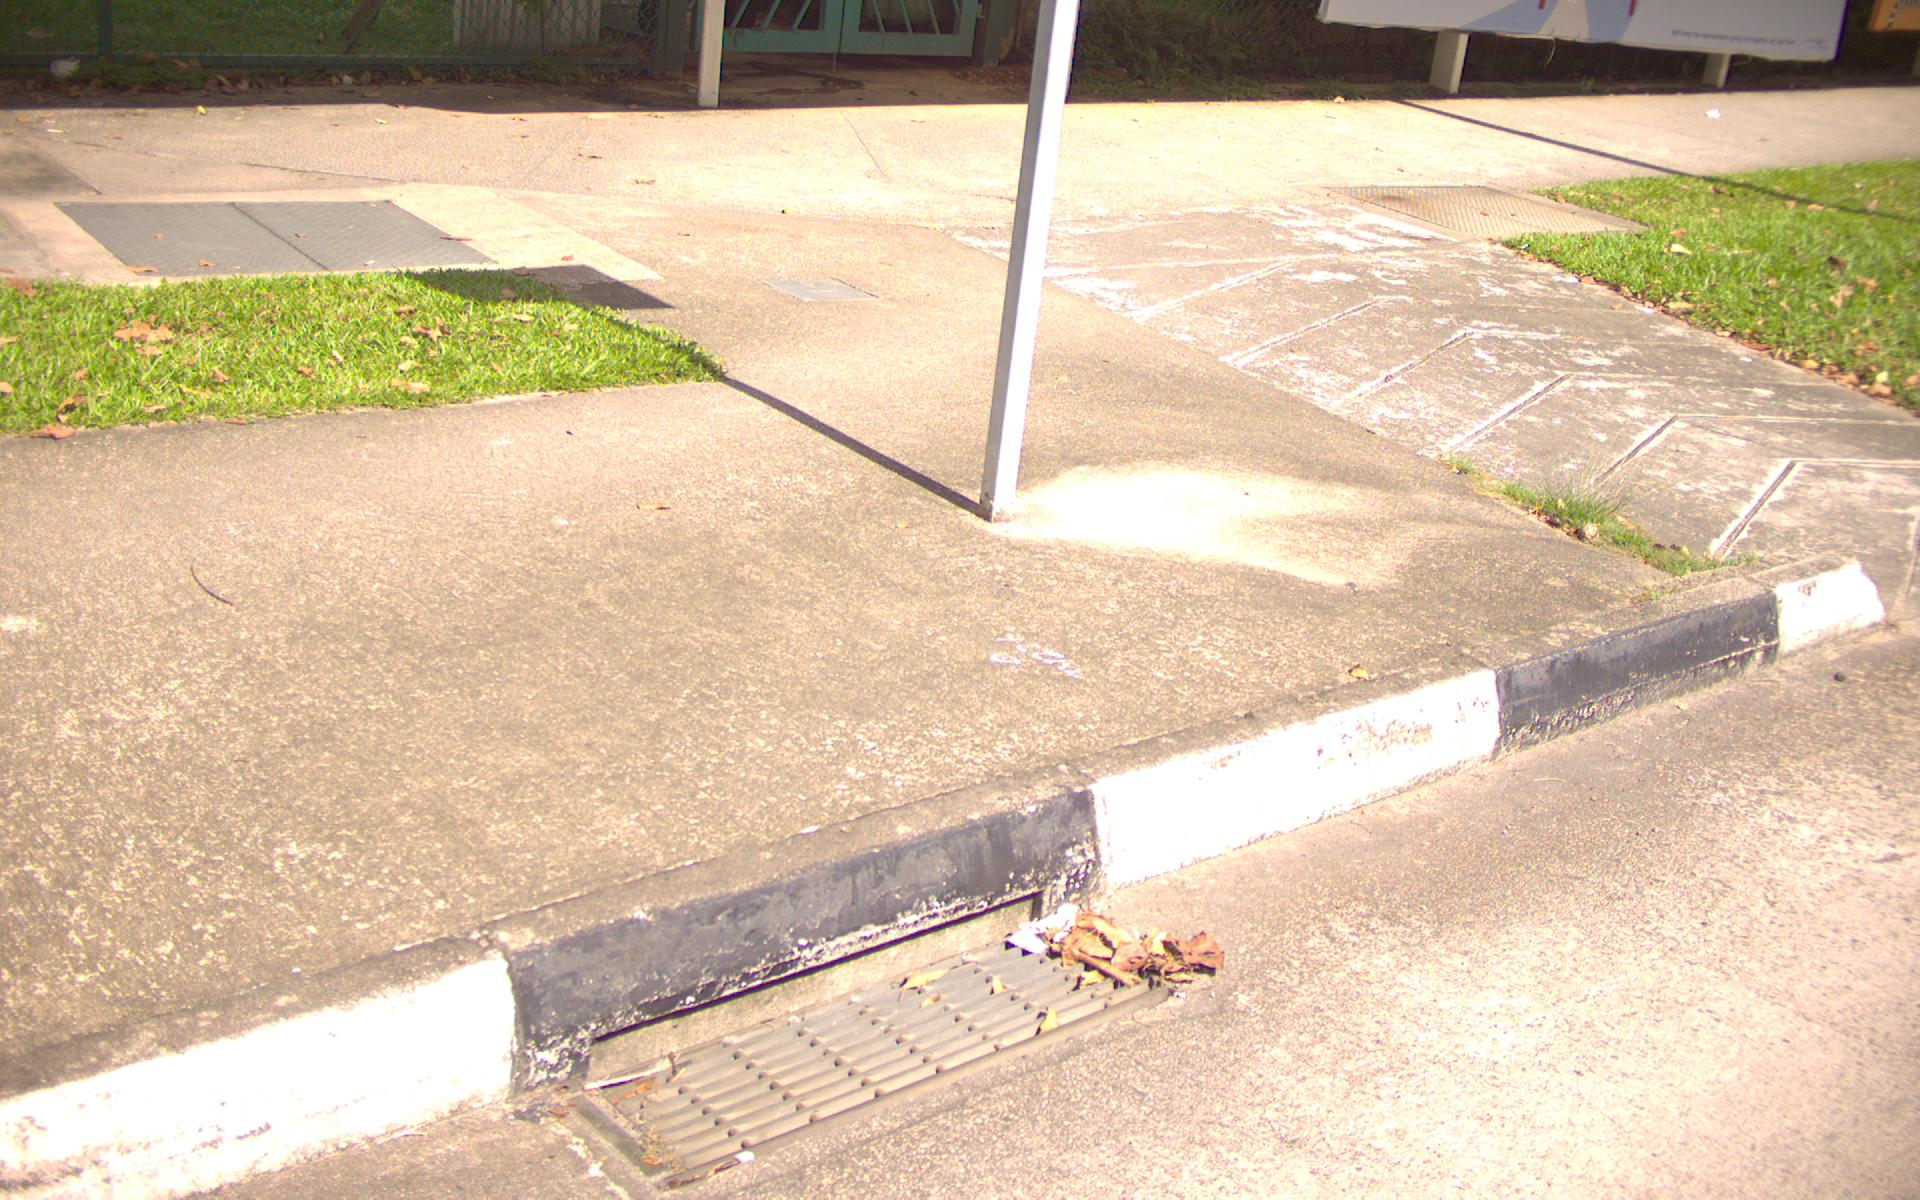curb_dic_low: (719, 93, 1503, 708), (4, 473, 665, 864), (554, 958, 1227, 1135)
road_turf_low: (4, 283, 597, 384), (1693, 178, 1920, 317)
